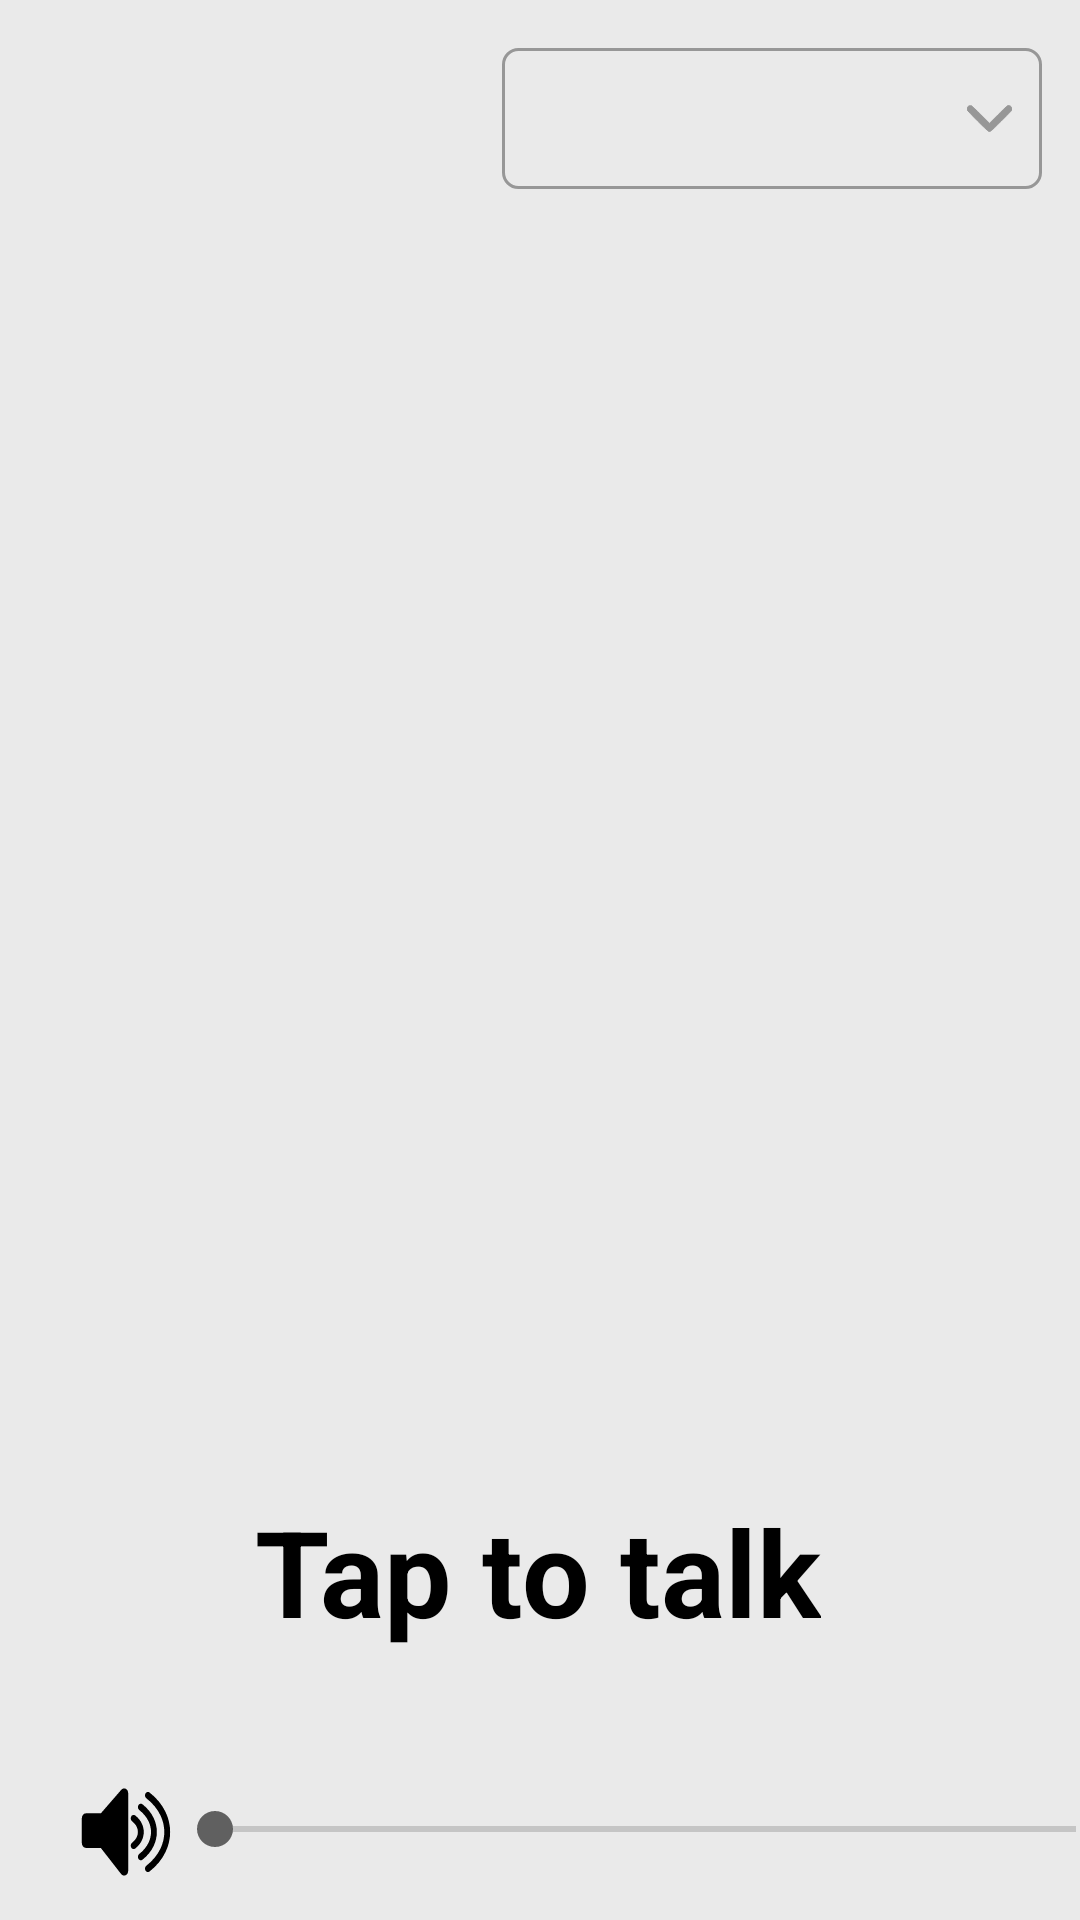

Locate icon controls on the screen. Image size 1080×1920, boxes as Rect(x1, y1, x2, y2).
unmutedark: Rect(81, 1788, 170, 1876)
